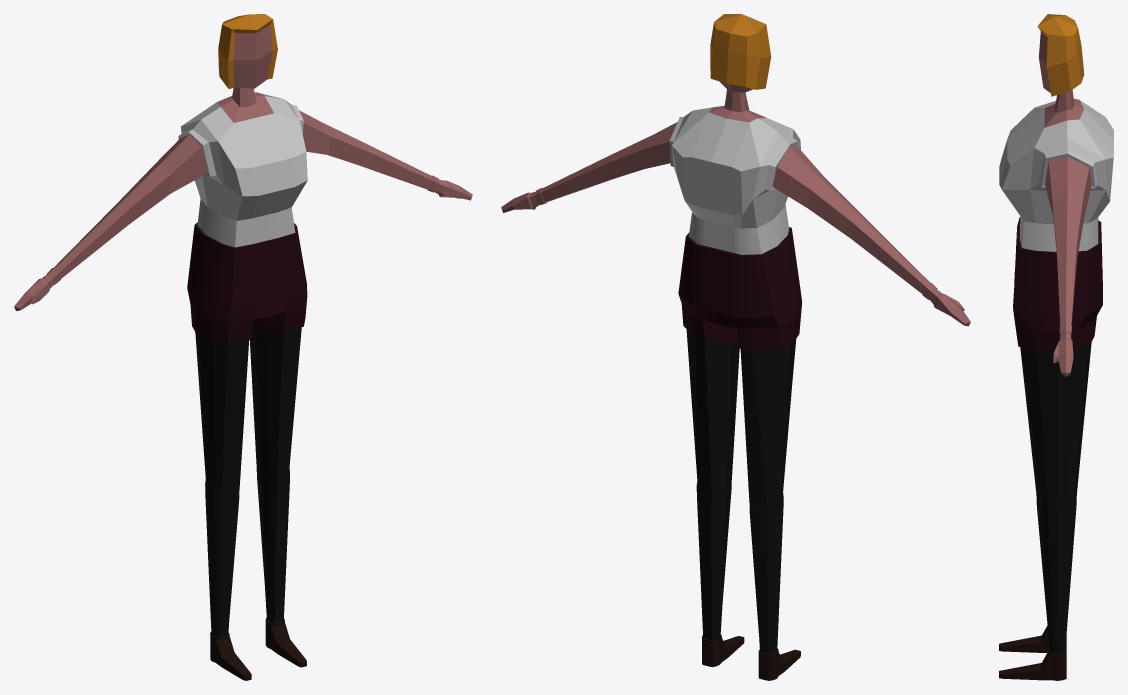
File: Game_Char_BrokenHome.FBX
3 renders of one model, left to right at view 1: azimuth 30°, elevation 25°; view 2: azimuth 150°, elevation 25°; view 3: azimuth 270°, elevation 25°, orthographic. The views are drawn at different scales.
Visible parts, largest first — view 1: Box010; view 2: Box010; view 3: Box010.
Boxes of the visible parts, x1=… form: Box010: x1=14, y1=14, x2=472, y2=680; Box010: x1=501, y1=14, x2=970, y2=680; Box010: x1=999, y1=14, x2=1113, y2=680.
Size of the model in its own units: 21.93 by 29.19 by 4.71.
